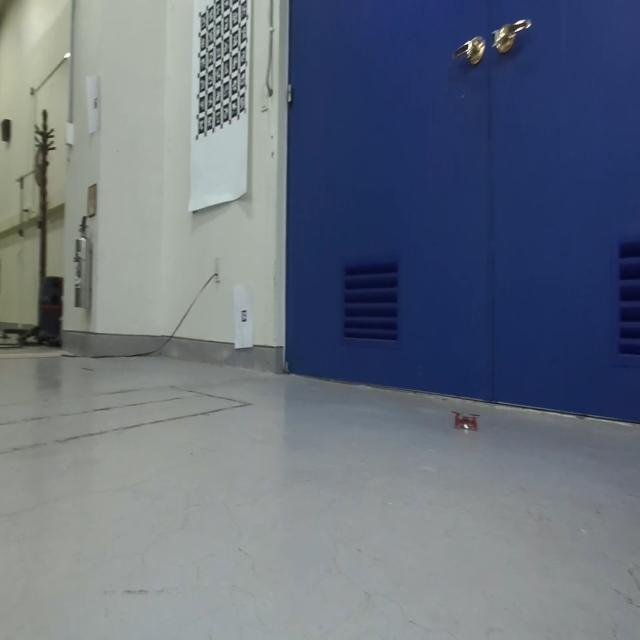crazyflie: (451, 404, 482, 439)
